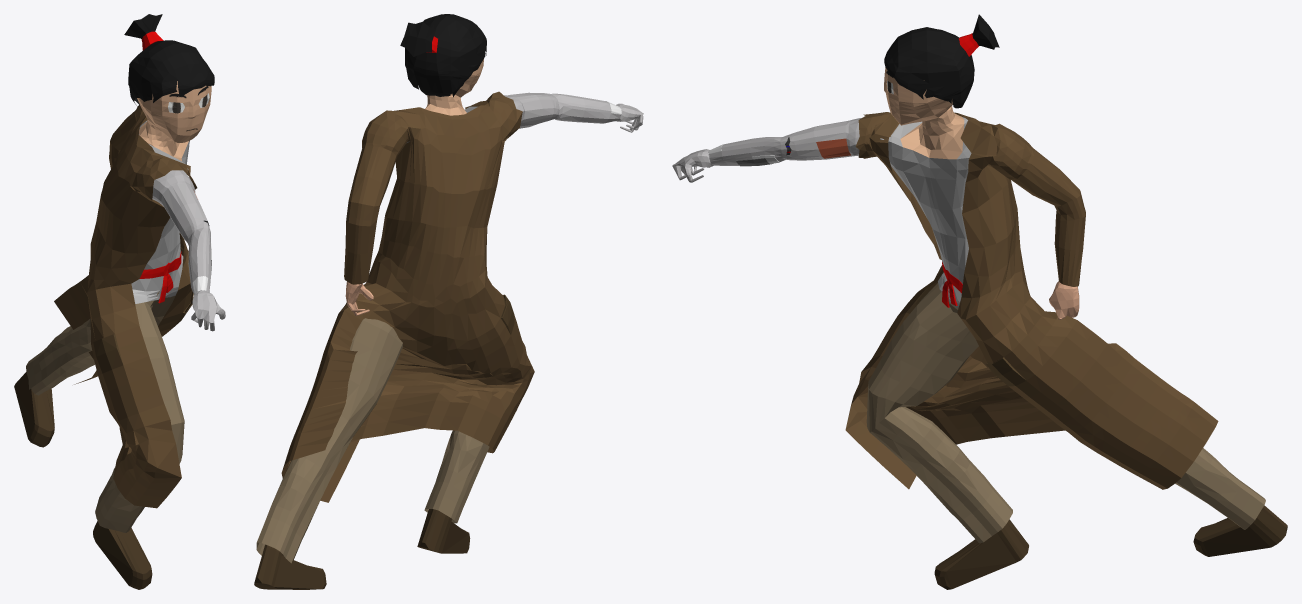
Rendered from OneAnimationTest_000012.obj.
3 views of the same model, side by side, from view 1: azimuth 30°, elevation 25°; view 2: azimuth 150°, elevation 25°; view 3: azimuth 270°, elevation 25° (orthographic). The views are drawn at different scales.
Parts seen in each view (by area): view 1: Jacket_Cube, Body_Cube.003, Hair_Cube.004; view 2: Jacket_Cube, Body_Cube.003, Hair_Cube.004; view 3: Jacket_Cube, Body_Cube.003, Hair_Cube.004.
Boxes of the visible parts, x1,y1,x2,y2 form: Jacket_Cube: (54,105,197,508); Body_Cube.003: (14,81,225,589); Hair_Cube.004: (124,14,214,106); Jacket_Cube: (281,91,534,502); Body_Cube.003: (254,59,643,589); Hair_Cube.004: (400,14,486,97); Jacket_Cube: (845,112,1218,489); Body_Cube.003: (672,67,1287,589); Hair_Cube.004: (884,14,999,108).
Size of the model in its own units: 1.05 by 3.64 by 3.49.
